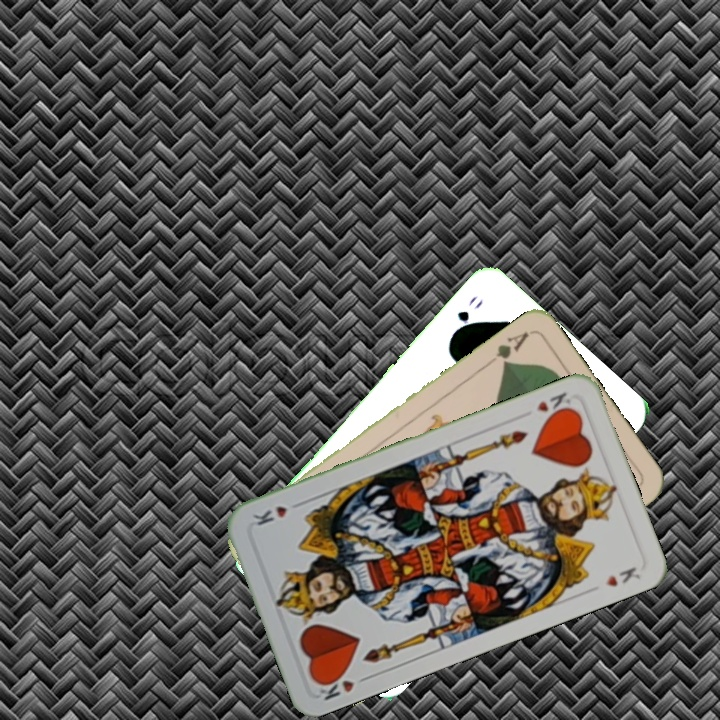GA: (482, 327, 532, 369)
GO: (448, 292, 486, 339)
HK: (312, 668, 373, 703), (532, 388, 575, 421)
